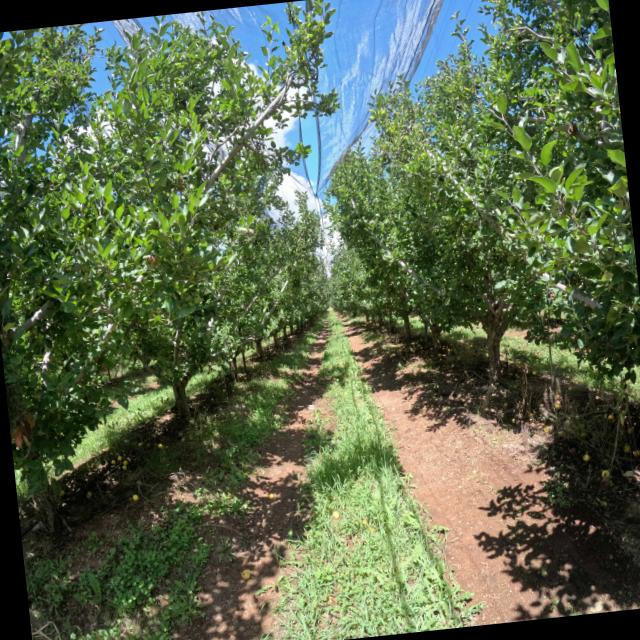-FireBlight-: (142, 250, 157, 270), (12, 430, 24, 450), (26, 414, 36, 428), (22, 434, 32, 447)
